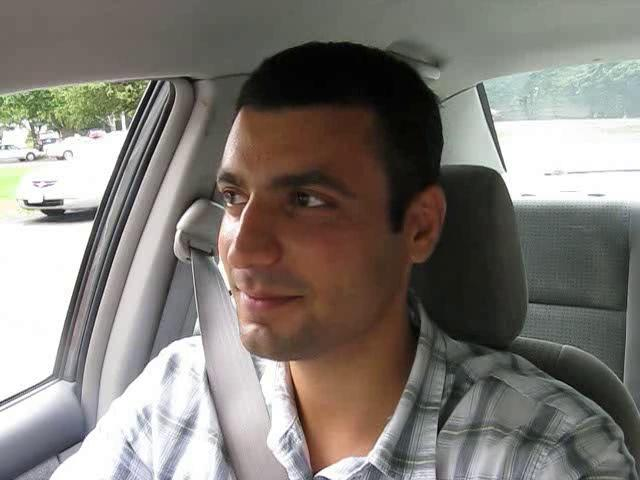no_yawn: (221, 266, 312, 328)
open_eyeL: (205, 181, 258, 220)
open_eyeR: (272, 177, 353, 227)
